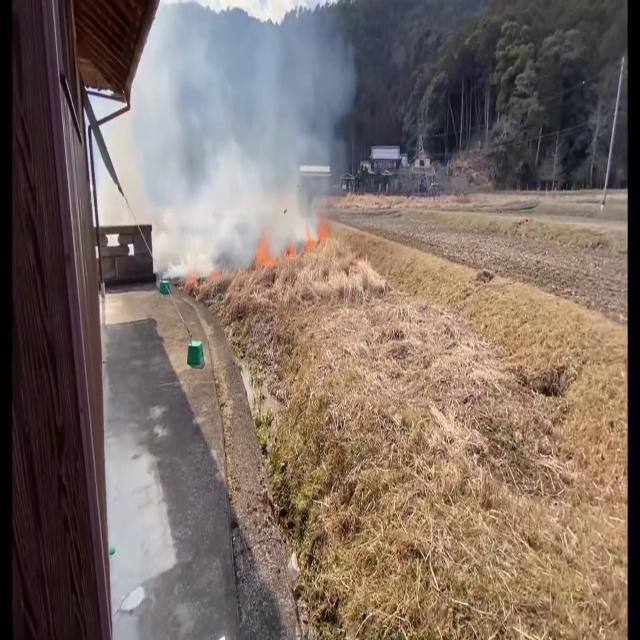Smoke: (130, 0, 362, 302)
